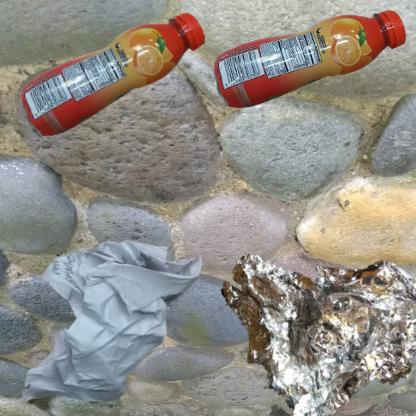aluminio: (213, 213, 416, 416)
botella: (10, 10, 236, 151), (213, 10, 406, 108)
papel: (10, 213, 218, 416)
